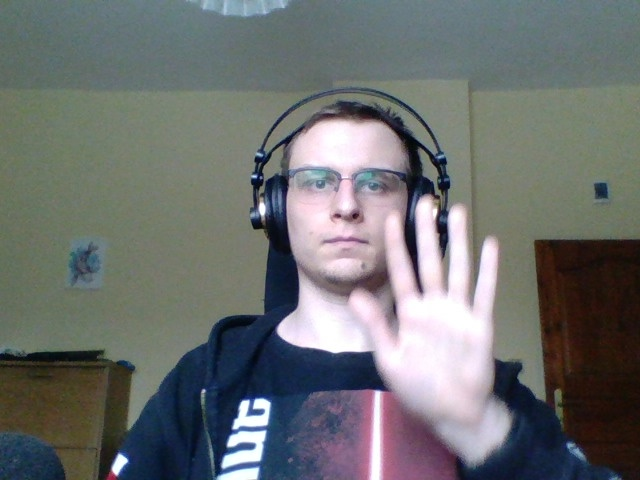hello: (346, 190, 522, 466)
